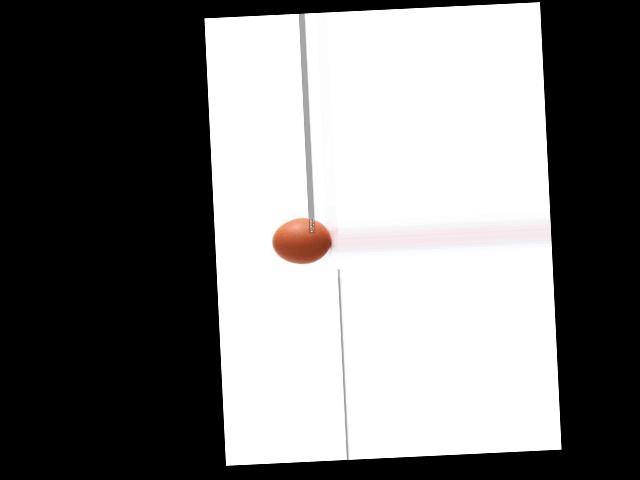egg: (271, 216, 330, 264)
